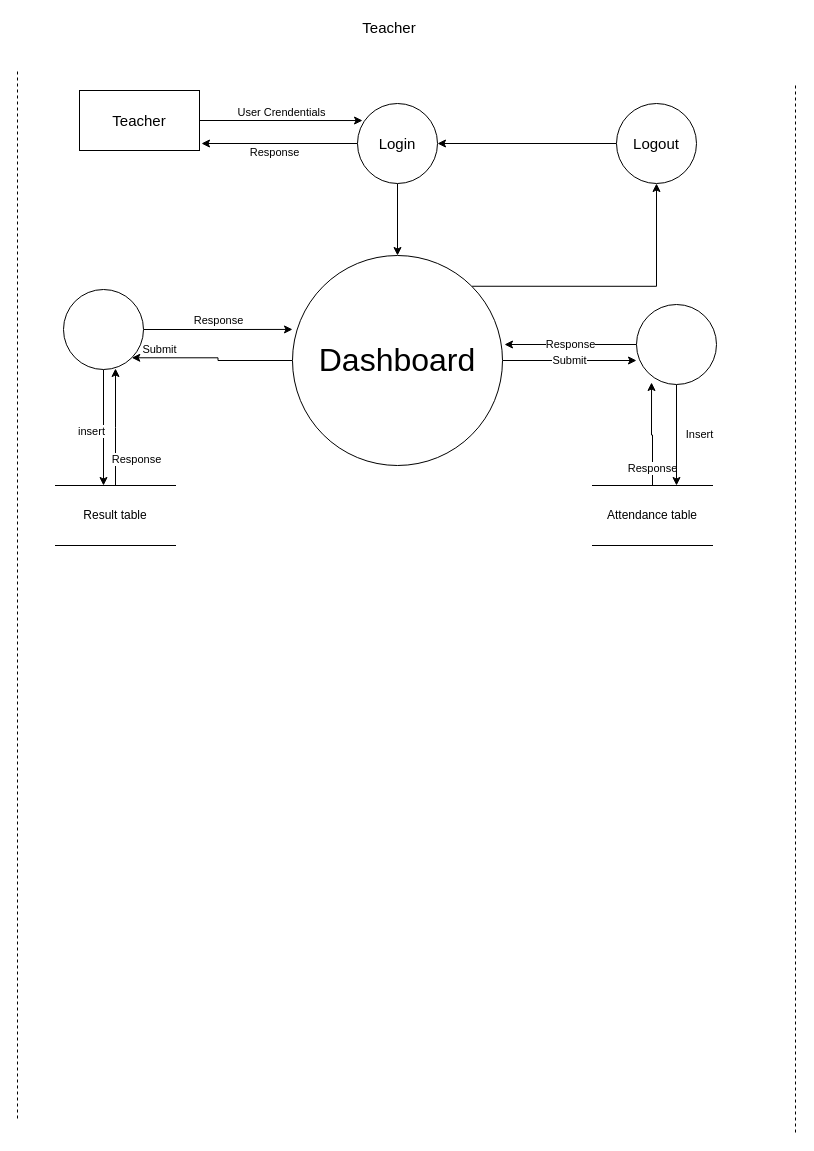
Some shapes in this 814 by 1151 pixel diagram are drawn without their labels. Here are the shapes that lost their labels. From the top down, the centre of each, then its label:
the point at 103,329: Submit result
the point at 676,344: E Attendance
